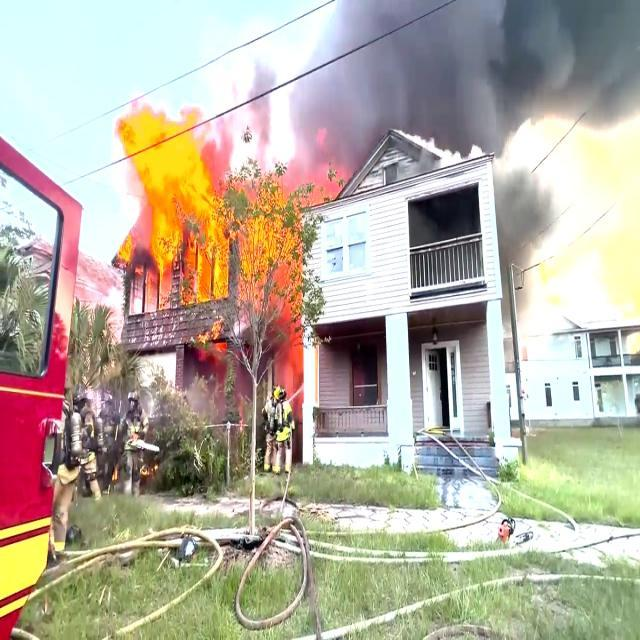Fire: (114, 100, 222, 308), (242, 165, 300, 420)
Smoke: (298, 9, 640, 130)
